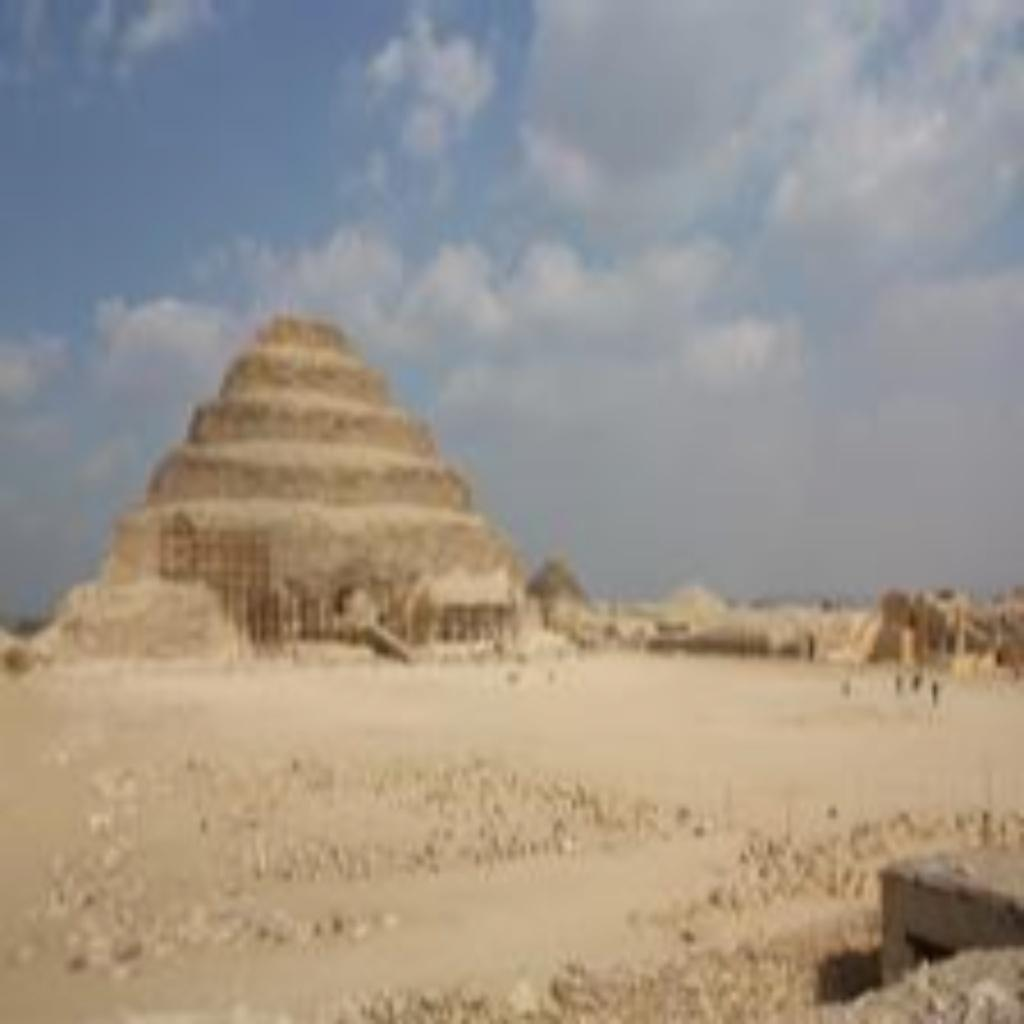Pyramid of Djoser: (32, 297, 558, 663)
